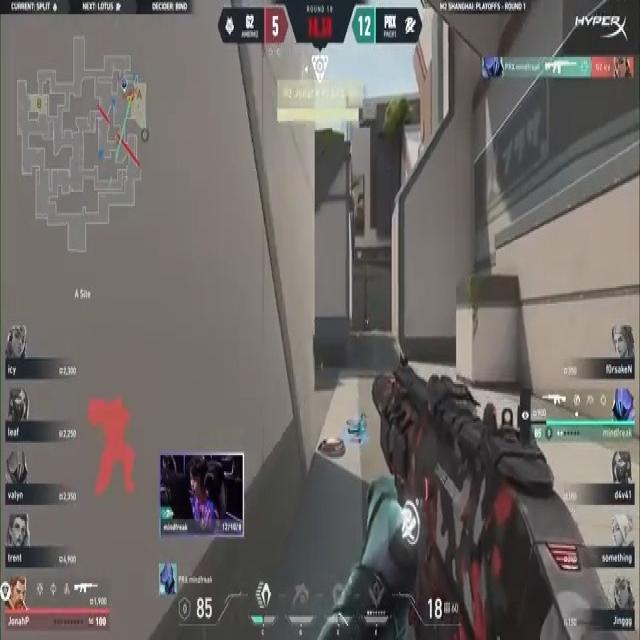enemy behind wall: (88, 391, 142, 495)
